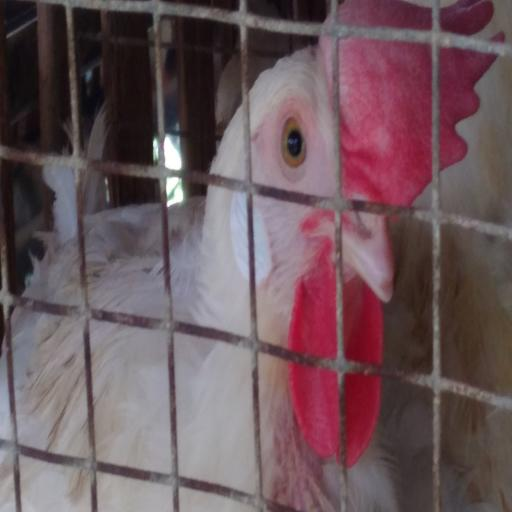healthy: (241, 48, 407, 382)
